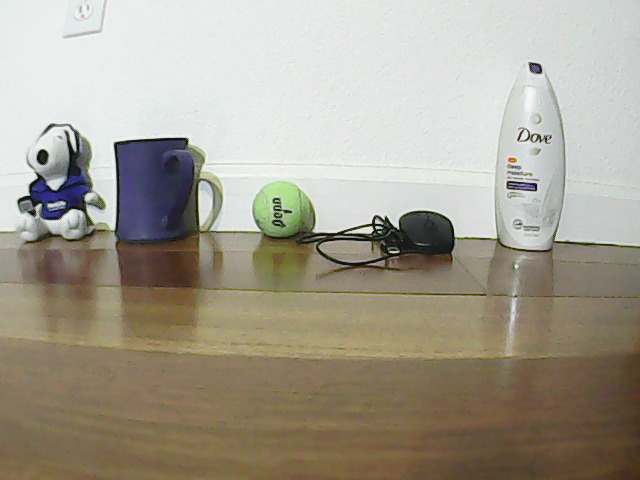ball: (252, 179, 311, 236)
mouse: (390, 202, 456, 259)
mug: (112, 130, 195, 249)
snoopy: (18, 120, 100, 243)
soap: (496, 50, 567, 263)
